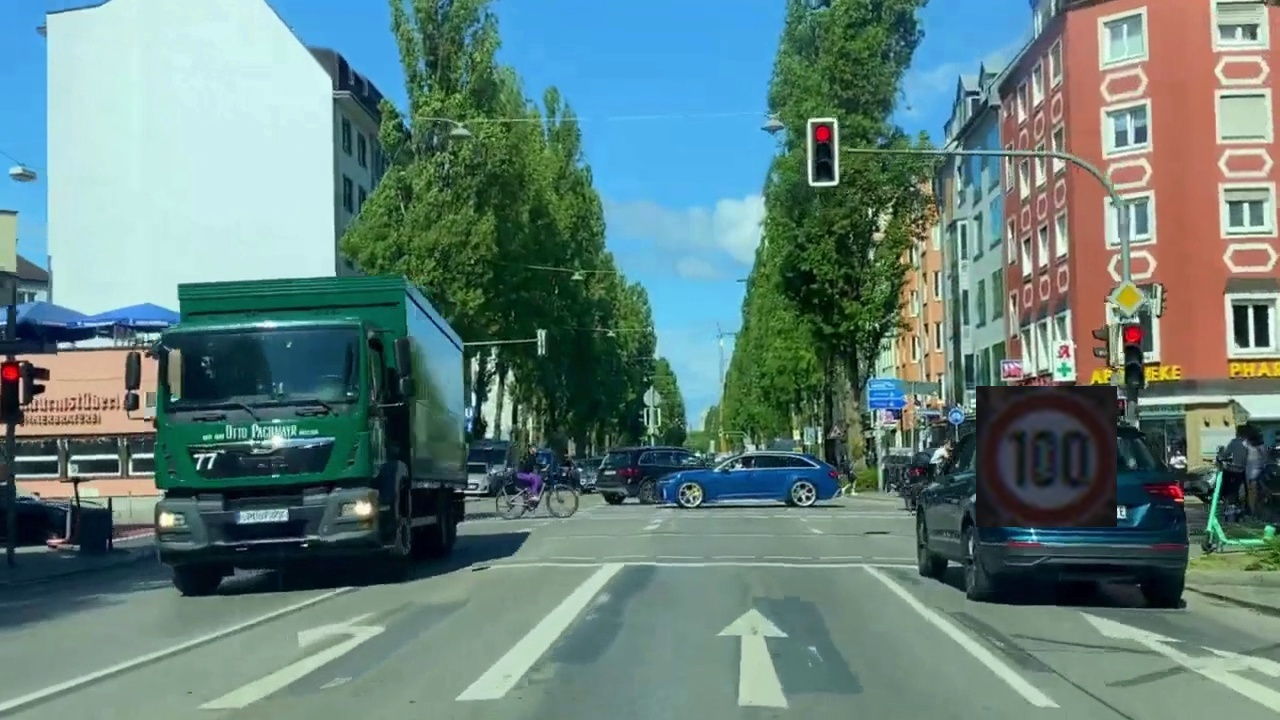Speed 100: (976, 386, 1117, 527)
